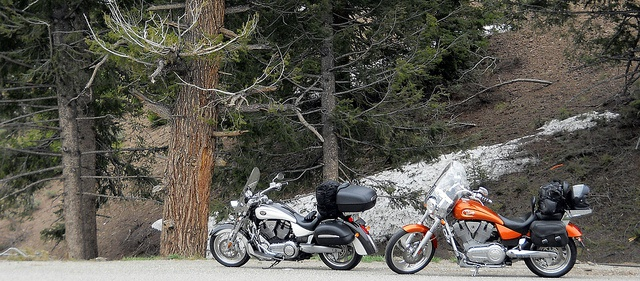non-vehicle: (385, 149, 593, 277), (209, 166, 377, 270)
